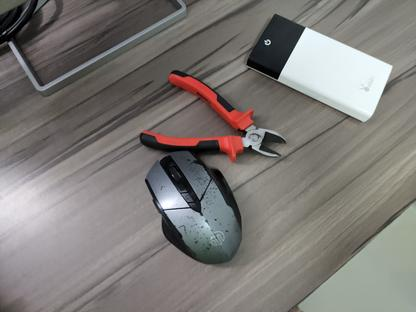mouse: (143, 149, 243, 265)
